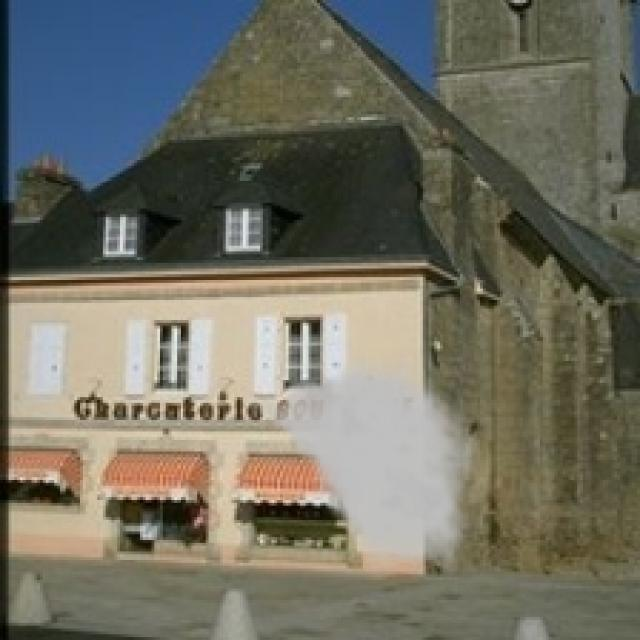Smoke: (237, 348, 480, 583)
